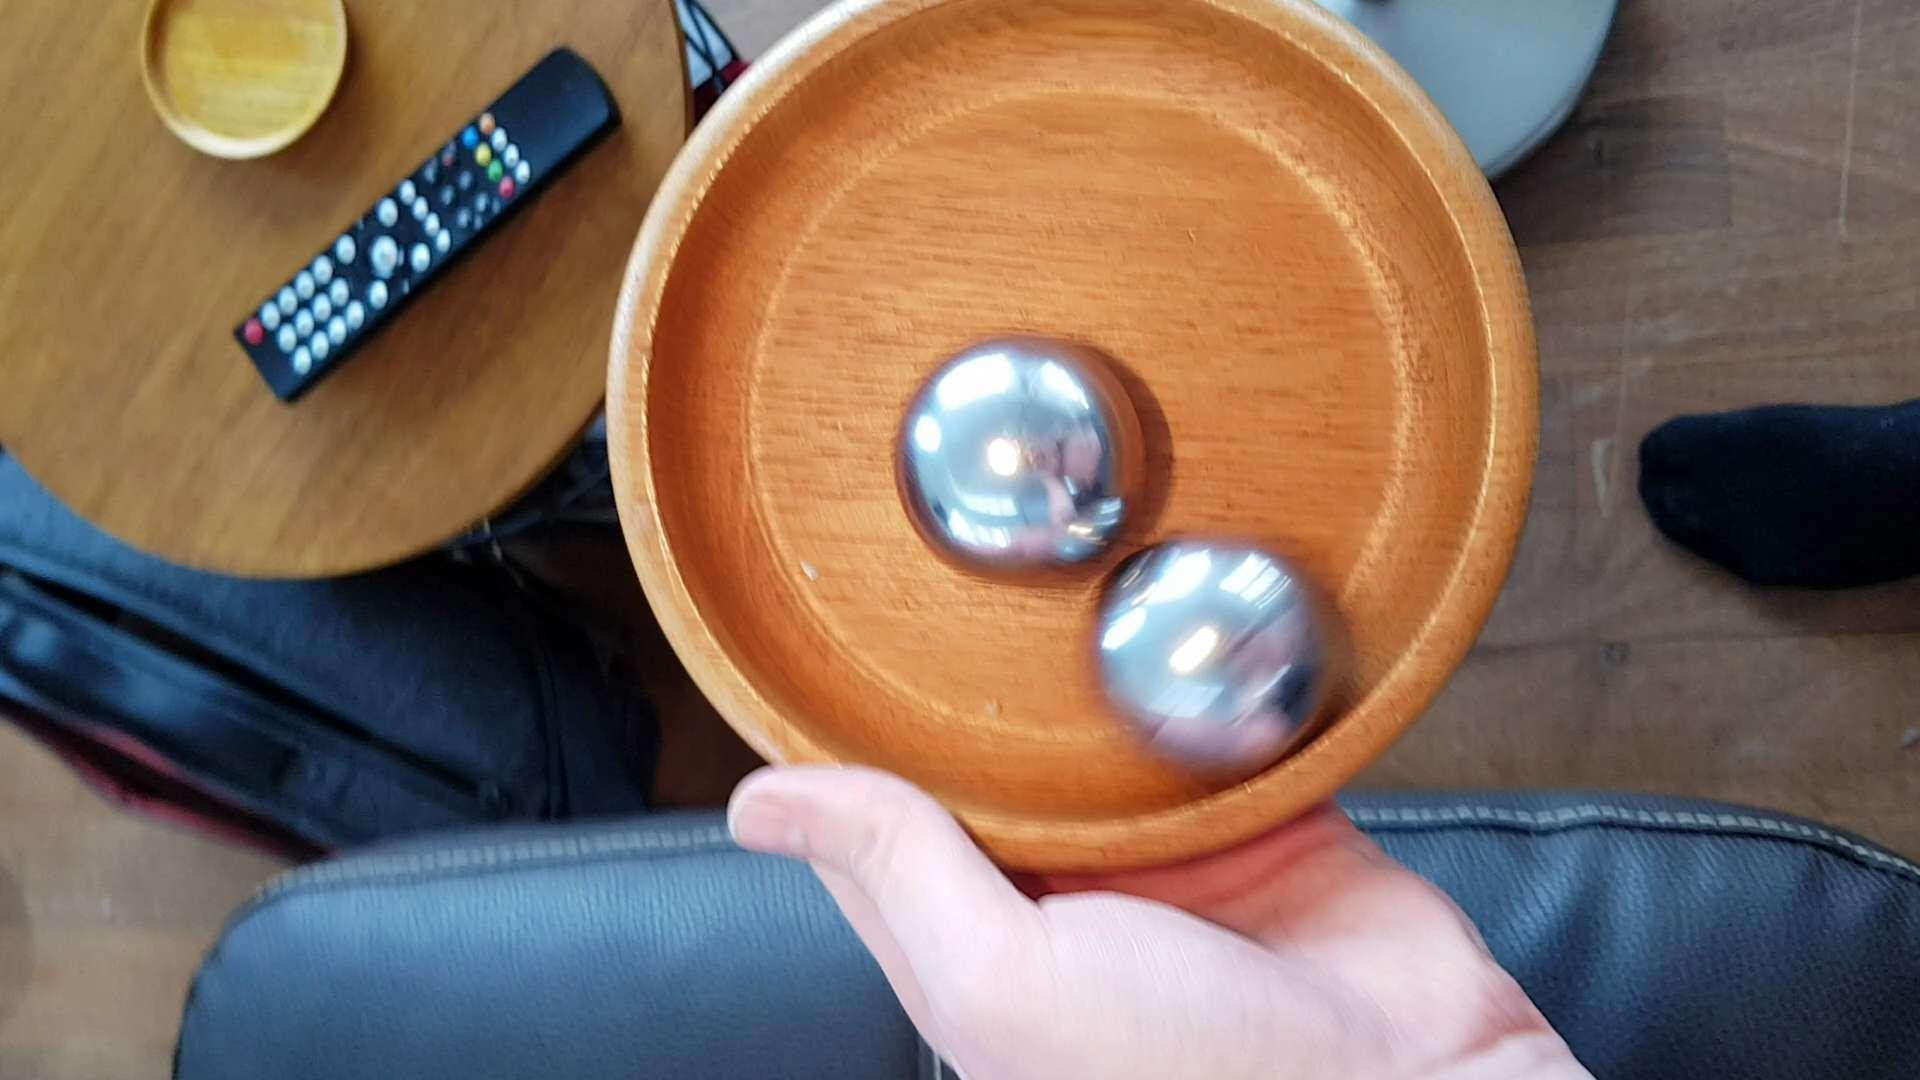sphere: (885, 342, 1156, 608), (1083, 522, 1327, 771)
